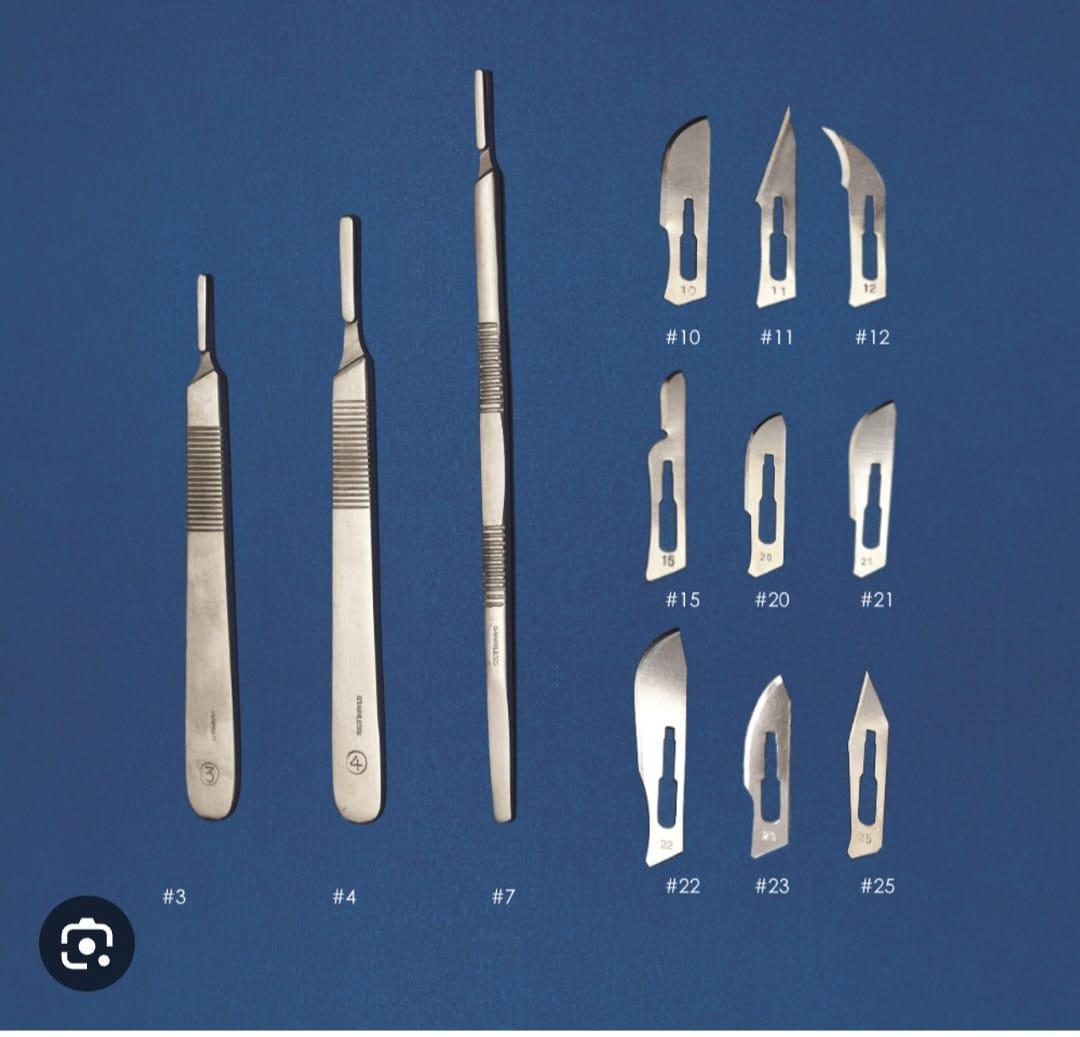Knife Blade: (602, 612, 707, 873), (615, 363, 712, 585), (642, 102, 728, 308), (820, 117, 910, 313), (727, 665, 805, 865), (832, 395, 913, 578), (743, 98, 812, 312), (832, 657, 900, 867), (733, 405, 802, 580)
Knife Handle: (455, 47, 542, 850), (152, 263, 258, 833), (308, 203, 400, 850)
